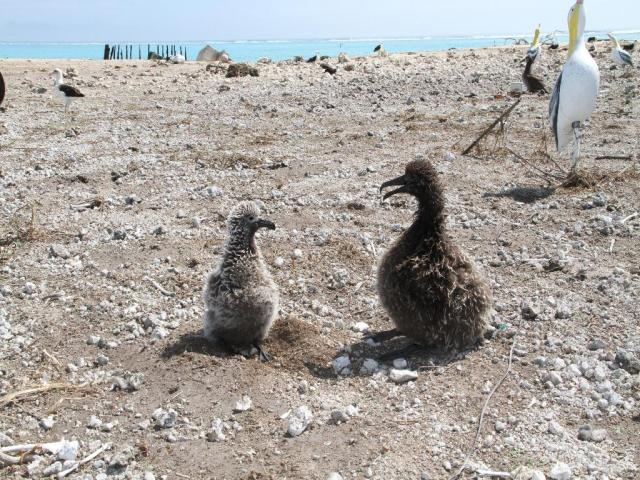Bird: (360, 160, 494, 366), (200, 201, 276, 362), (549, 0, 600, 177), (48, 67, 86, 112), (521, 54, 548, 94), (610, 29, 635, 72), (526, 21, 541, 62), (307, 52, 323, 66), (372, 40, 383, 55), (326, 68, 339, 77), (319, 56, 329, 67), (588, 43, 596, 54), (586, 37, 598, 42)
